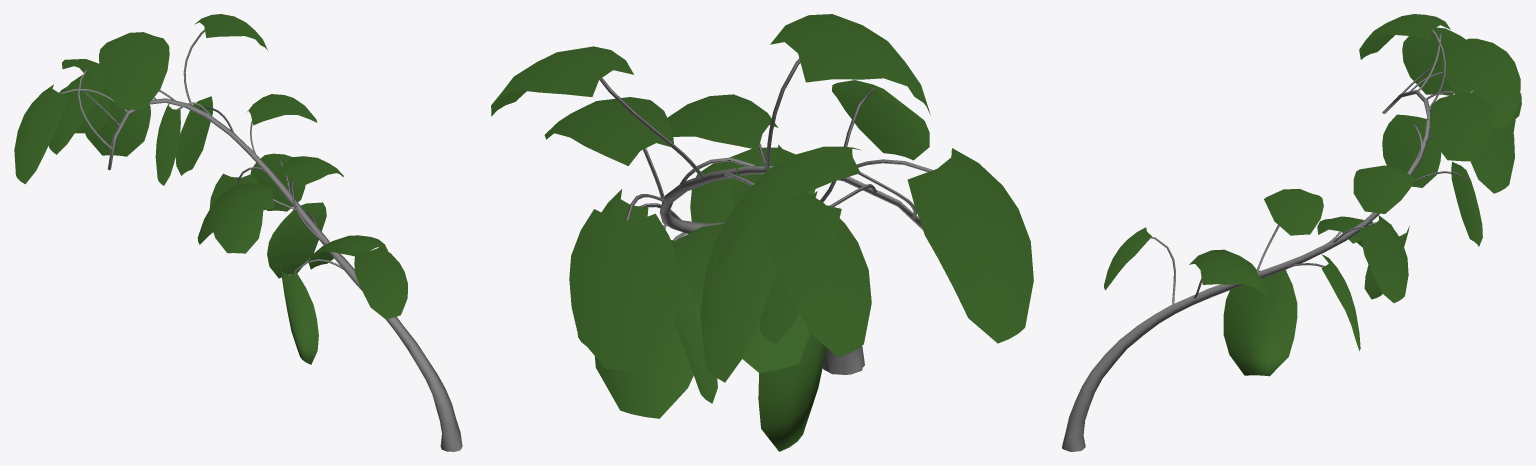
Rendered from SM_plant_tropical_large_02.fbx.
3 renders of one model, left to right at view 1: azimuth 30°, elevation 25°; view 2: azimuth 150°, elevation 25°; view 3: azimuth 270°, elevation 25°, orthographic. The views are drawn at different scales.
Parts seen in each view (by area): view 1: tree013; view 2: tree013; view 3: tree013.
Part boxes in pixels (x1,y1,x2,y2): tree013: (14, 14, 462, 451); tree013: (491, 14, 1033, 451); tree013: (1062, 14, 1521, 451).
Size of the model in its own units: 51.71 by 60.19 by 71.73.
